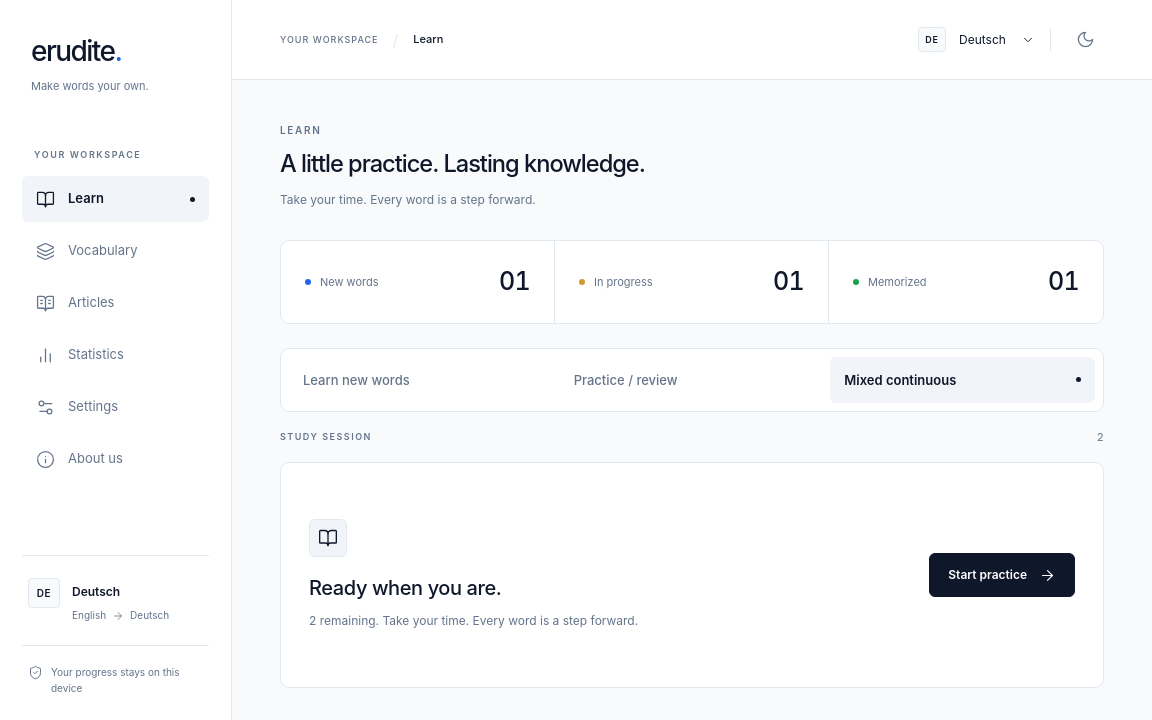
Test: new and reset word practice › requires session setup, respects folder selection, and restores setup after ending
Click the radio button labelled "Learn new words": (356, 380) [303,372,410,388]
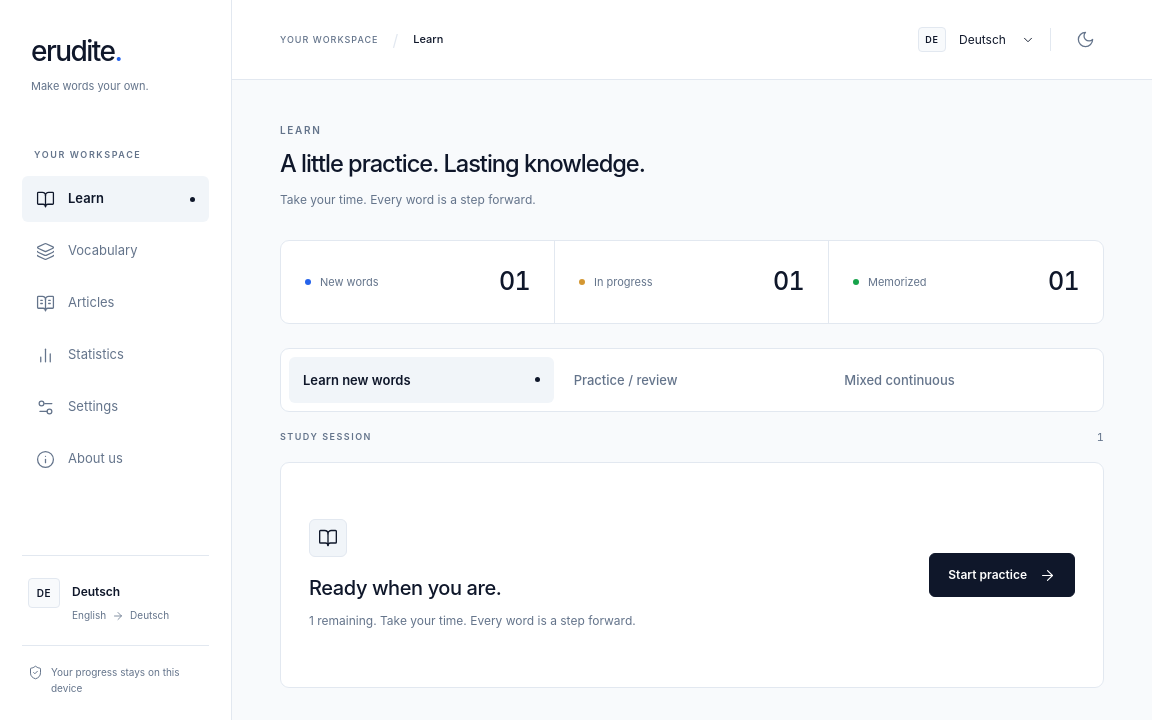
Click the button "Start practice": (1002, 575) [929,553,1075,597]
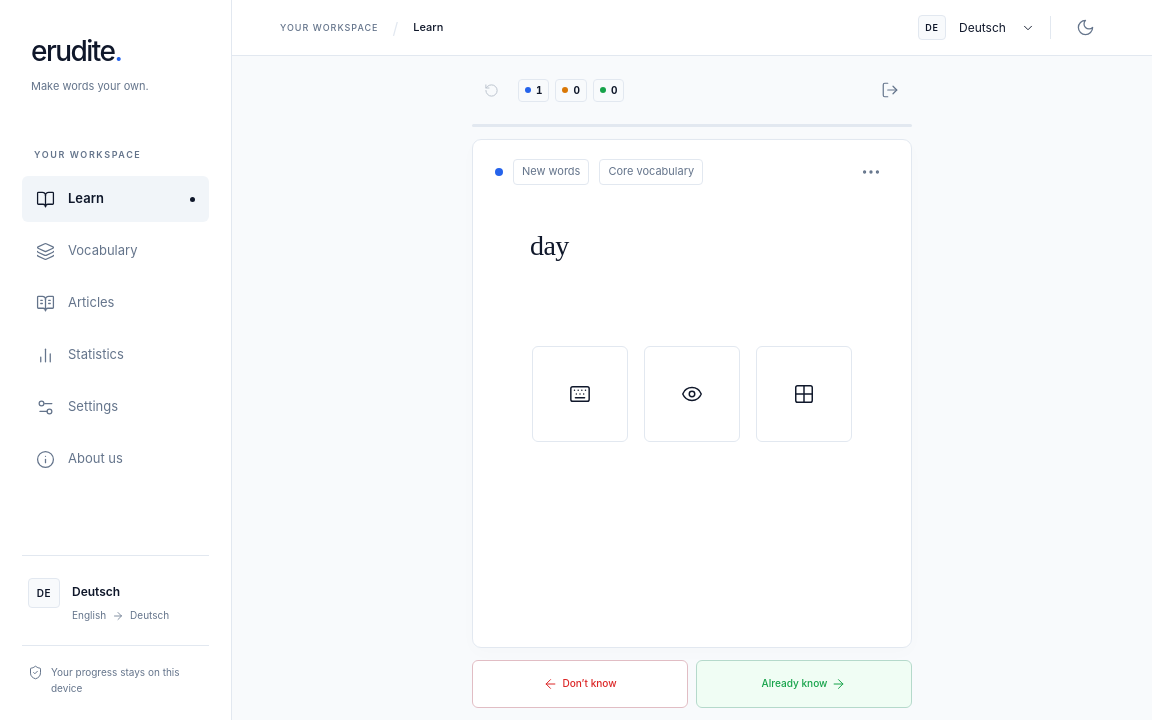
Result: the heading "day" is shown at [530,230,569,261]
Result: the element with class "session-settings" is gone
Click the button named "End session": (890, 90) [868,68,912,112]
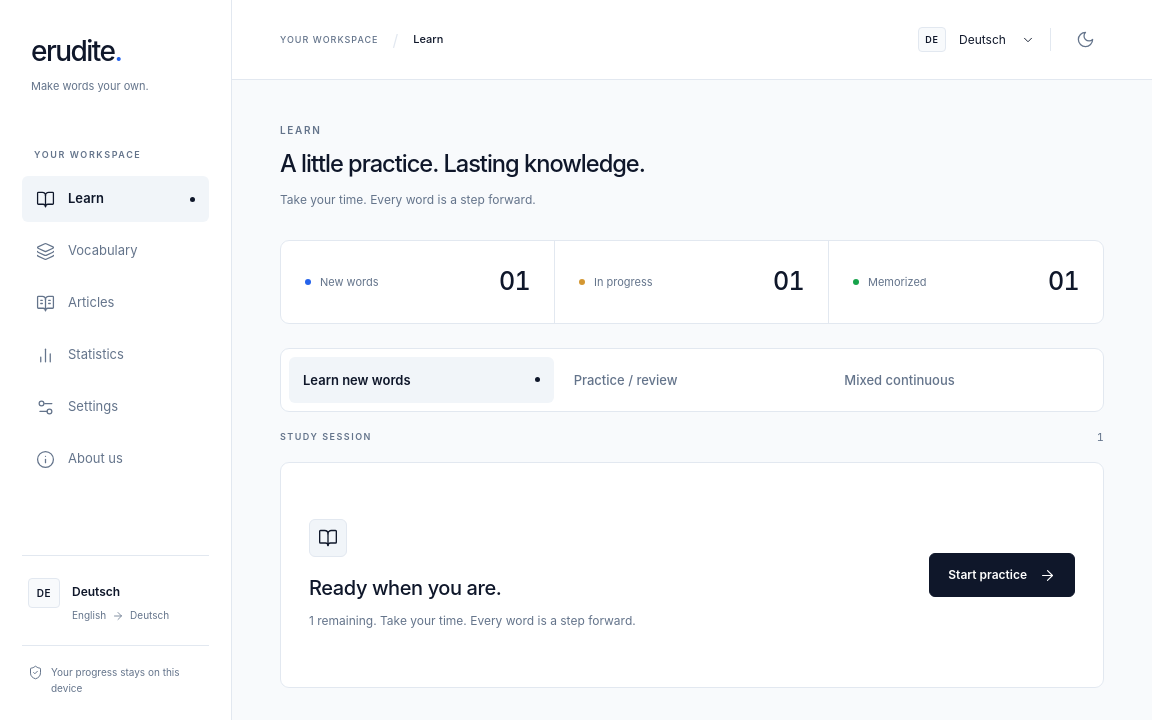
Result: the element with class "session-settings" is shown at [280,348,1104,412]
Result: the radio button named "session-mode" holds "new" at [289,357,554,403]
